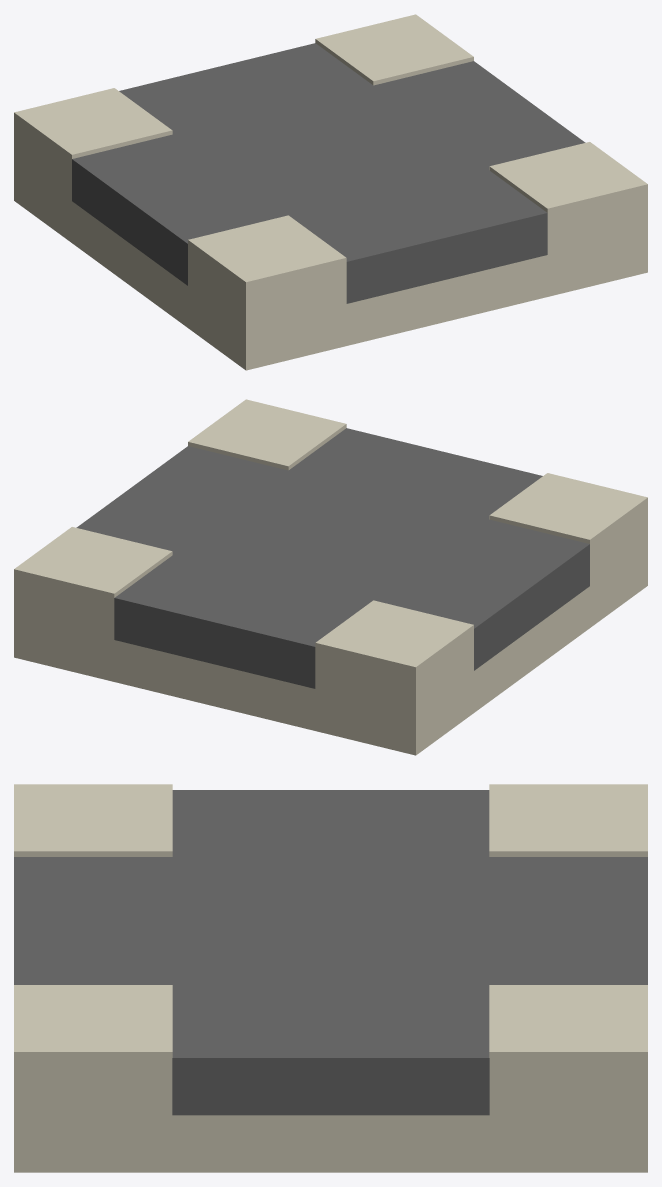
The model's file is tile021.fbx.
3 views of the same model, one above another, from view 1: azimuth 30°, elevation 25°; view 2: azimuth 150°, elevation 25°; view 3: azimuth 270°, elevation 25° (orthographic). The views are drawn at different scales.
Visible parts, largest first — view 1: tile021; view 2: tile021; view 3: tile021.
Boxes of the visible parts, x1,y1,x2,y2 form: tile021: (14,14,647,370); tile021: (14,399,647,755); tile021: (14,784,647,1172).
Size of the model in its own units: 10 by 2.1 by 10.
